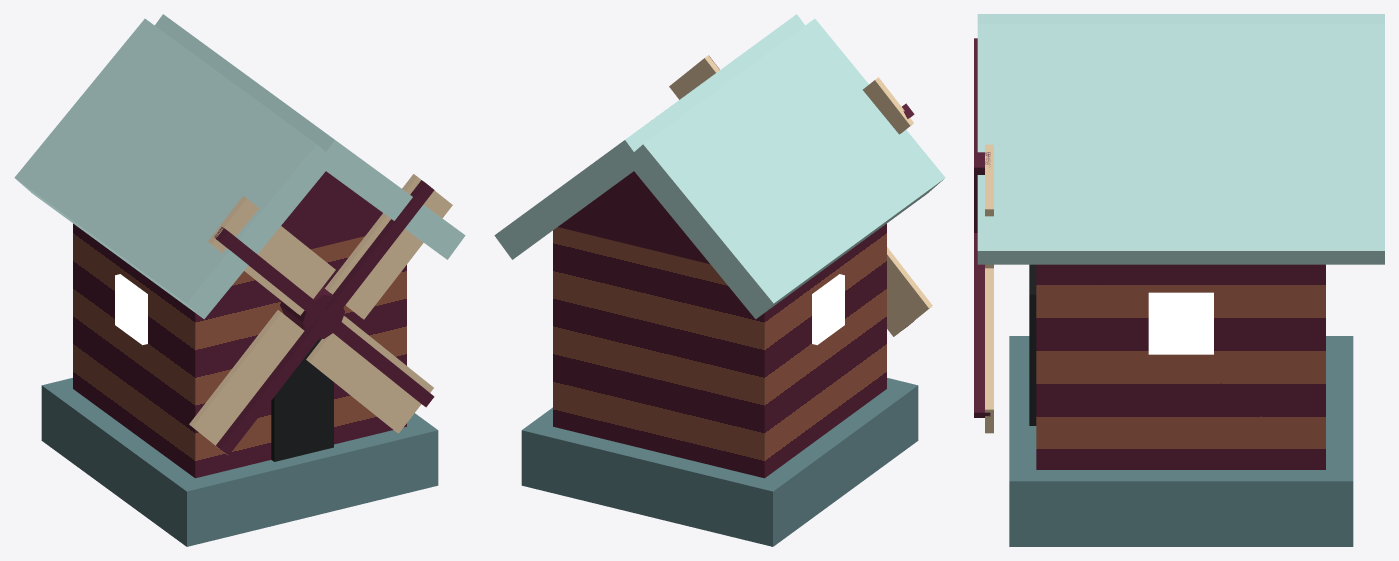
The model's file is windmill.glb.
The picture shows the model from 3 angles, left to right: view 1: azimuth 30°, elevation 25°; view 2: azimuth 150°, elevation 25°; view 3: azimuth 270°, elevation 25°; orthographic projection. The views are drawn at different scales.
Parts seen in each view (by area): view 1: RoofL, House, Sails, Base, RoofR, Door, Attic, WinL; view 2: House, RoofL, Base, RoofR, Attic, Sails, WinL; view 3: RoofR, House, Base, Sails, RoofL, WinR, Door.
Part boxes in pixels (box(x1,y1,x2,y2)): RoofL: box(14, 18, 334, 319); House: box(73, 223, 406, 478); Sails: box(189, 174, 452, 455); Base: box(41, 378, 438, 546); RoofR: box(155, 14, 465, 259); Door: box(271, 338, 333, 461); Attic: box(281, 171, 382, 249); WinL: box(115, 274, 147, 345); House: box(553, 223, 886, 478); RoofL: box(625, 18, 945, 319); Base: box(521, 378, 918, 546); RoofR: box(494, 14, 804, 259); Attic: box(558, 171, 709, 263); Sails: box(669, 55, 932, 336); WinL: box(812, 274, 844, 345); RoofR: box(977, 24, 1384, 264); House: box(1036, 264, 1325, 469); Base: box(1009, 336, 1353, 546); Sails: box(974, 38, 993, 433); RoofL: box(977, 14, 1384, 24); WinR: box(1148, 292, 1213, 354); Door: box(1029, 264, 1036, 425).
Bounding box in the file's own units: 2.11 × 2.77 × 2.27.
Materials: 8 (1 with a texture image).
